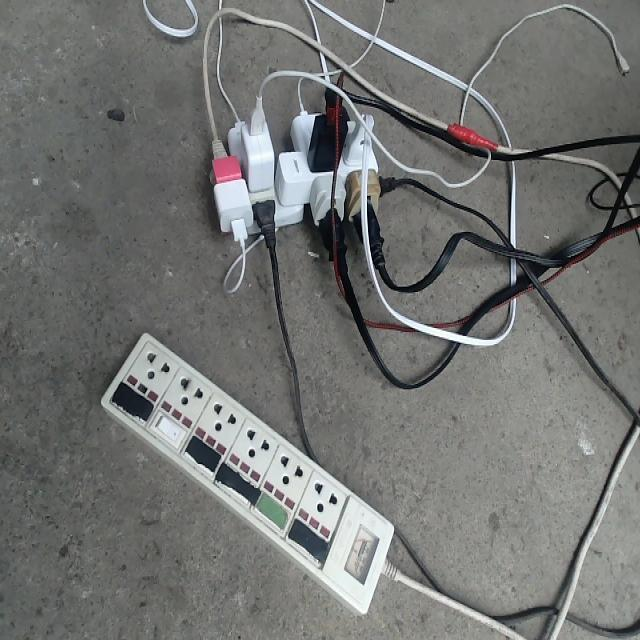-: (209, 76, 398, 268)
